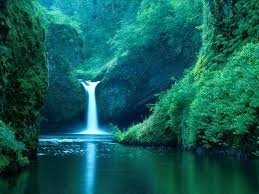lake: (26, 132, 251, 187)
mountain: (3, 1, 256, 156)
waterfall: (61, 76, 124, 180)
